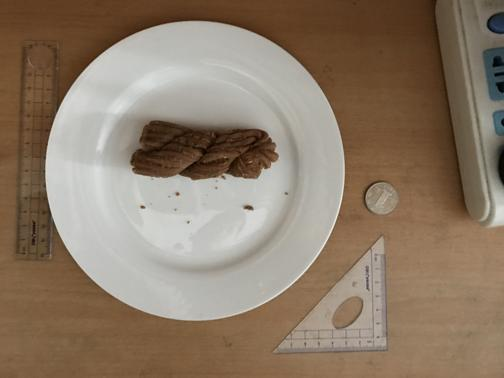coin: (363, 180, 398, 216)
fired_dough_twist: (128, 120, 278, 180)
